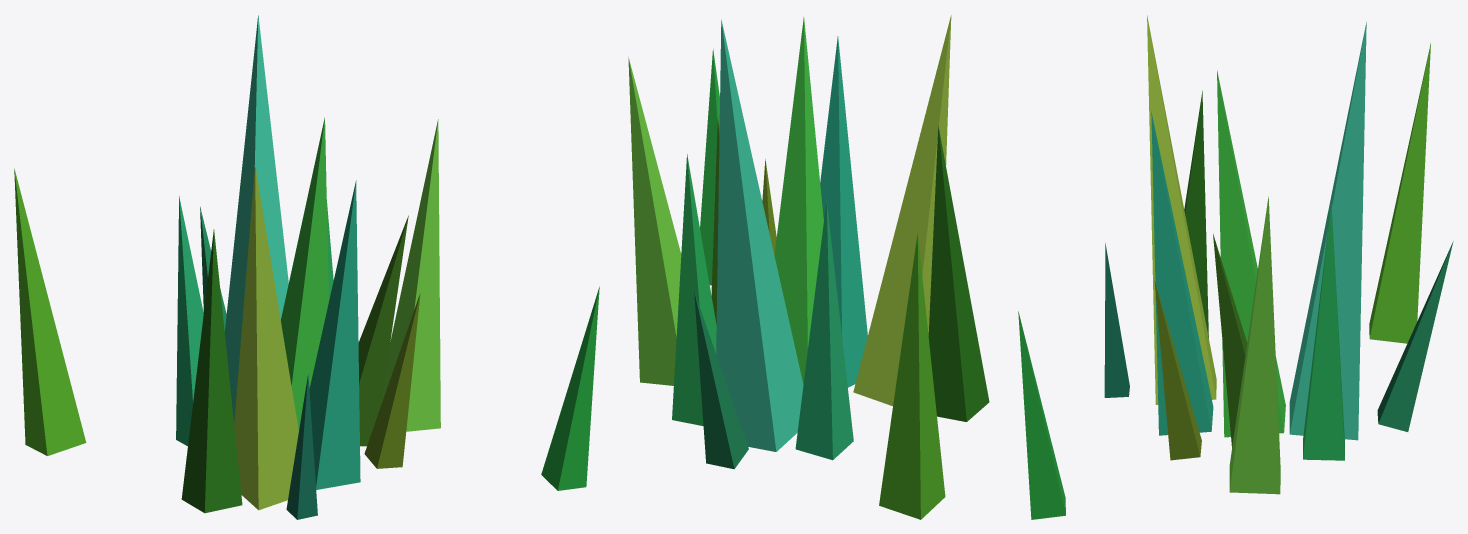
Rendered from GrassA.fbx.
The picture shows the model from 3 angles, left to right: view 1: azimuth 30°, elevation 25°; view 2: azimuth 150°, elevation 25°; view 3: azimuth 270°, elevation 25°; orthographic projection. The views are drawn at different scales.
Parts seen in each view (by area): view 1: GrassA; view 2: GrassA; view 3: GrassA.
Part boxes in pixels (x1,y1,x2,y2): GrassA: (14,15,599,519); GrassA: (628,15,989,519); GrassA: (1018,15,1453,519).
Bounding box in the file's own units: 136 × 133 × 126.
